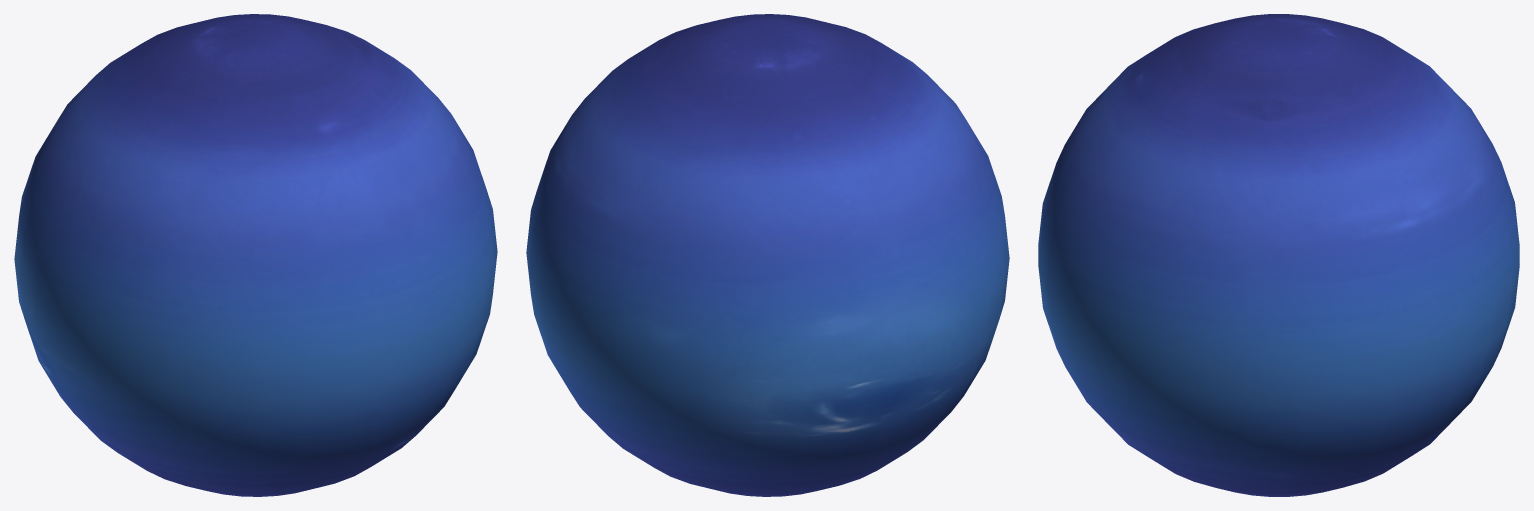
Rendered from neptuno.glb.
3 views of the same model, side by side, from view 1: azimuth 30°, elevation 25°; view 2: azimuth 150°, elevation 25°; view 3: azimuth 270°, elevation 25° (orthographic).
Parts seen in each view (by area): view 1: neptuno.001; view 2: neptuno.001; view 3: neptuno.001.
Part boxes in pixels (x1,y1,x2,y2): neptuno.001: [14, 14, 497, 496]; neptuno.001: [526, 14, 1009, 496]; neptuno.001: [1038, 14, 1519, 496].
Bounding box in the file's own units: 0.4945 × 0.4967 × 0.4945.
1 material, 1 textured.
